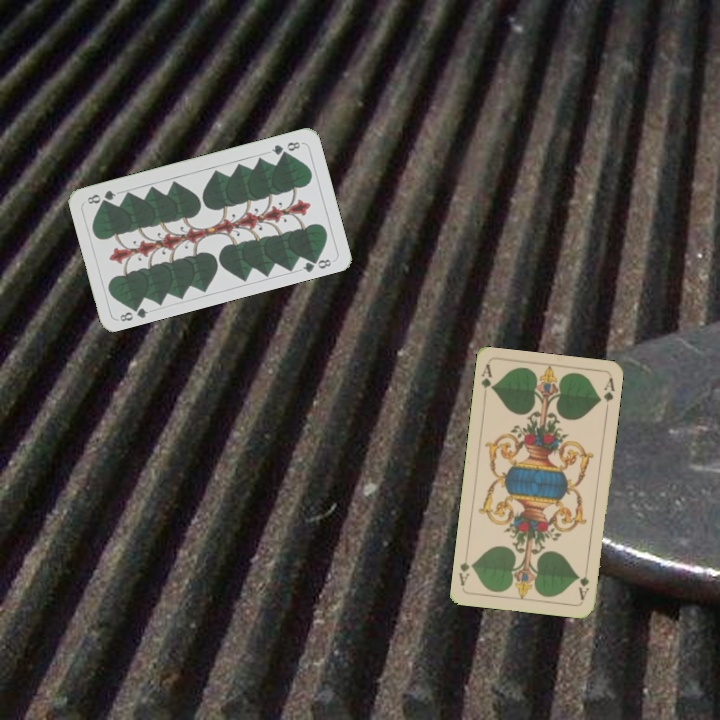G8: (116, 300, 151, 324), (268, 137, 303, 157)
GA: (575, 562, 592, 602), (477, 361, 496, 393)
